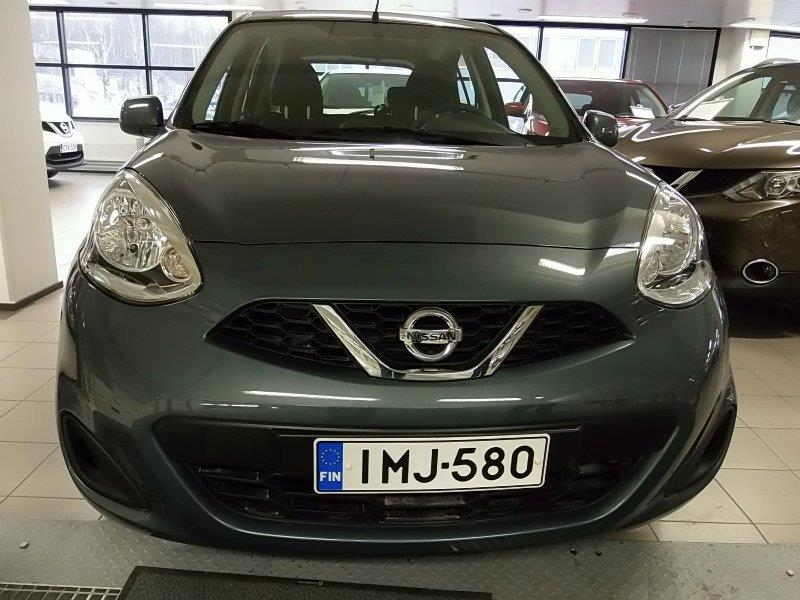license: (311, 432, 551, 492)
